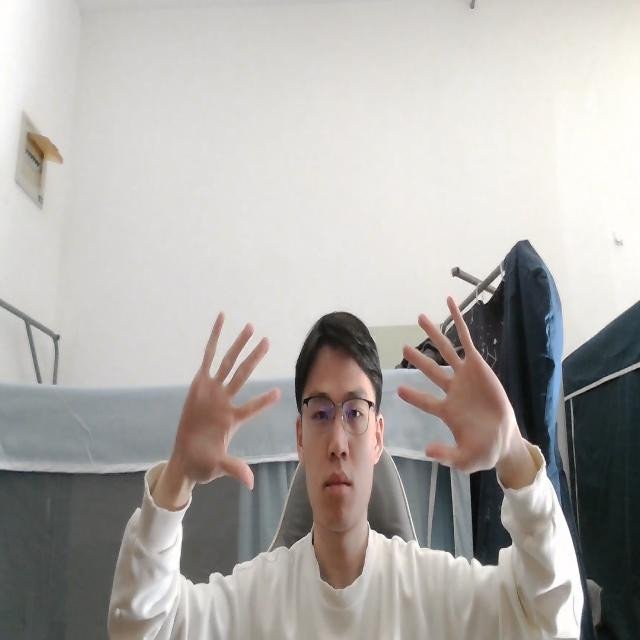five: (397, 295, 519, 477), (167, 307, 281, 493)
